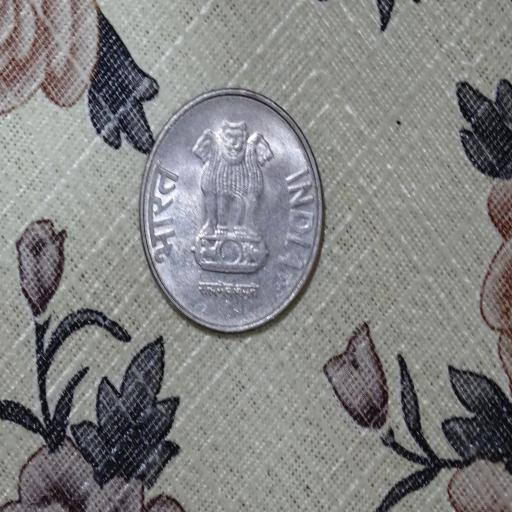rupee2: (139, 90, 321, 330)
